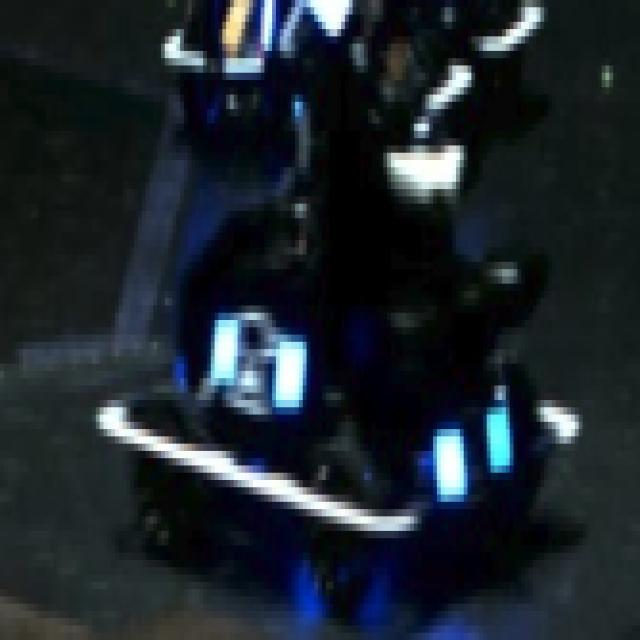Bs: (207, 298, 314, 422), (437, 386, 510, 509)
